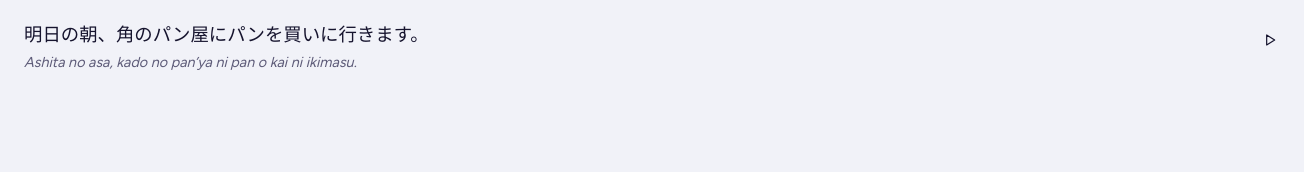
it: Line › muestra la traducción solo al tocar la frase
The width and height of the screenshot is (1304, 172).
Check: the text "Mañana por la mañana voy a comprar pan en la panadería de la esquina." is not shown
Check: the text "Ashita no asa, kado no pan’ya ni pan o kai ni ikimasu." is shown, box left=24, top=52, right=357, bottom=73
What coordinates should you click on to do the following:
click the button titled "Toca para ver la traducción"
I would click on:
 (226, 35)
Its box is left=12, top=12, right=1242, bottom=83.
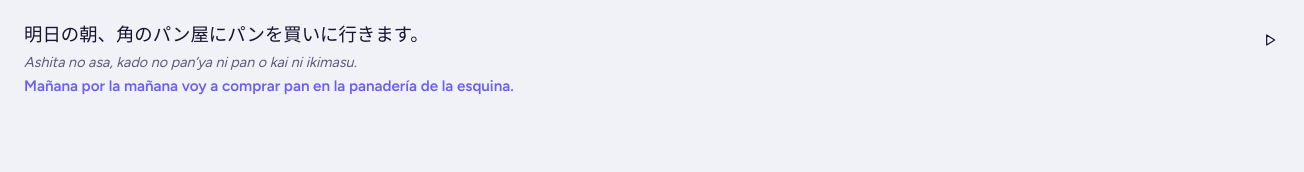
Check: the text "Mañana por la mañana voy a comprar pan en la panadería de la esquina." is shown, box left=24, top=75, right=514, bottom=98
